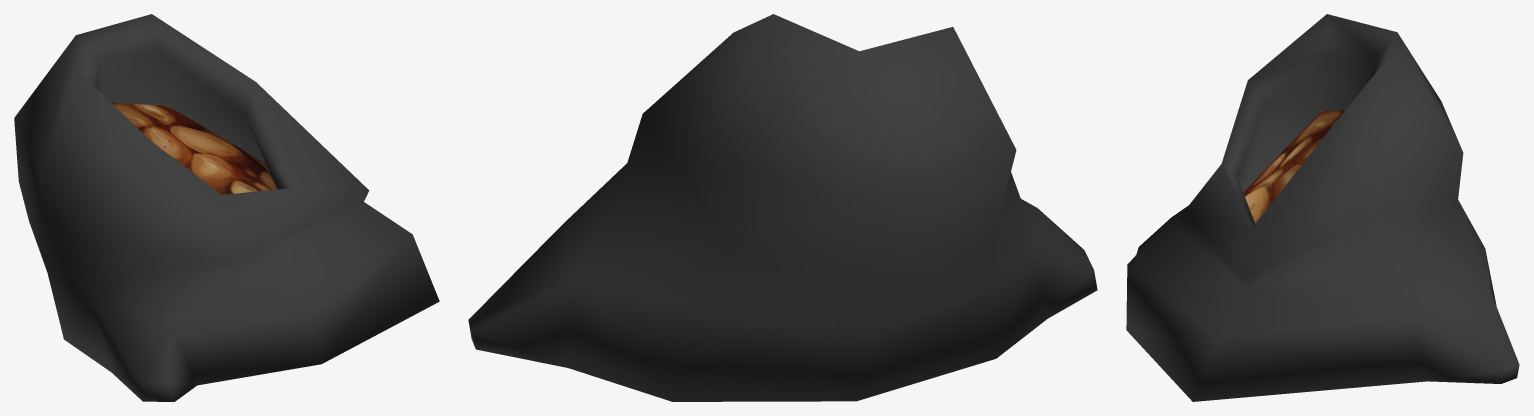
The model's file is SM_PROP_sack_07.FBX.
3 renders of one model, left to right at view 1: azimuth 30°, elevation 25°; view 2: azimuth 150°, elevation 25°; view 3: azimuth 270°, elevation 25°, orthographic. The views are drawn at different scales.
Parts seen in each view (by area): view 1: SM_PROP_sack_07; view 2: SM_PROP_sack_07; view 3: SM_PROP_sack_07.
Part boxes in pixels (box(x1,y1,x2,y2)): SM_PROP_sack_07: box(14, 14, 439, 401); SM_PROP_sack_07: box(468, 14, 1097, 401); SM_PROP_sack_07: box(1126, 14, 1519, 401).
Size of the model in its own units: 65.55 by 67.81 by 49.83.
